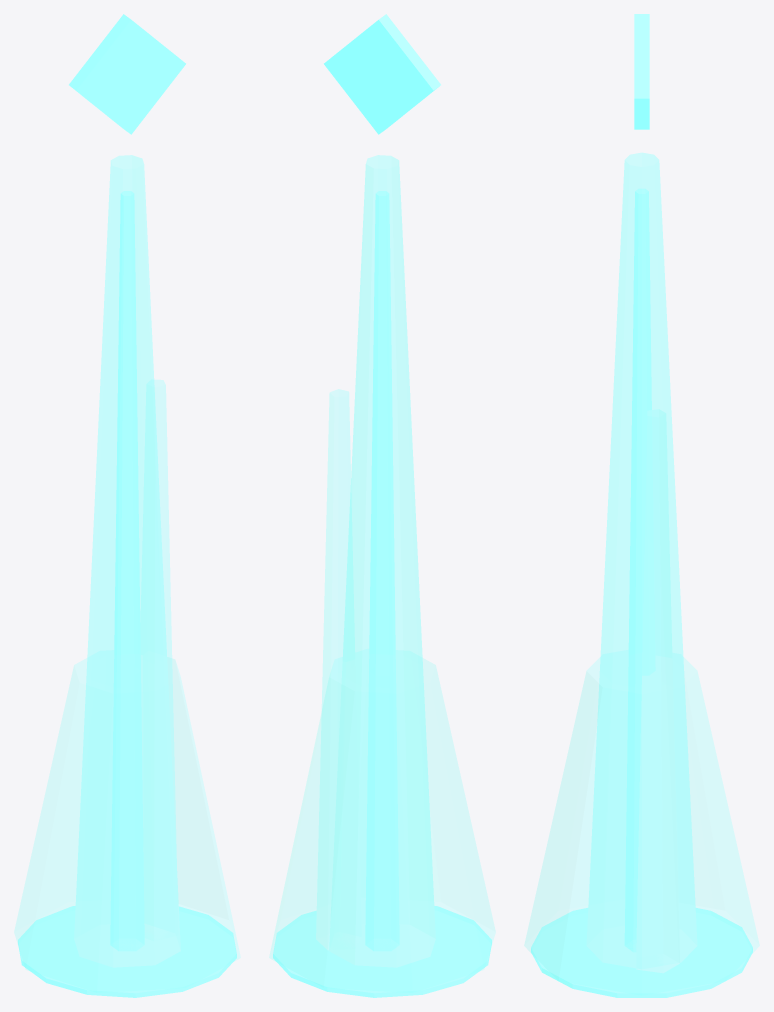
Rendered from fx_drop_refined.glb.
The picture shows the model from 3 angles, left to right: view 1: azimuth 30°, elevation 25°; view 2: azimuth 150°, elevation 25°; view 3: azimuth 270°, elevation 25°; orthographic projection.
Visible parts, largest first — view 1: fx_drop_refined; view 2: fx_drop_refined; view 3: fx_drop_refined.
Part boxes in pixels (bbox=[...]): fx_drop_refined: bbox=[14, 14, 240, 997]; fx_drop_refined: bbox=[269, 14, 495, 997]; fx_drop_refined: bbox=[524, 14, 759, 997].
Bounding box in the file's own units: 0.68 × 2.98 × 0.68.
